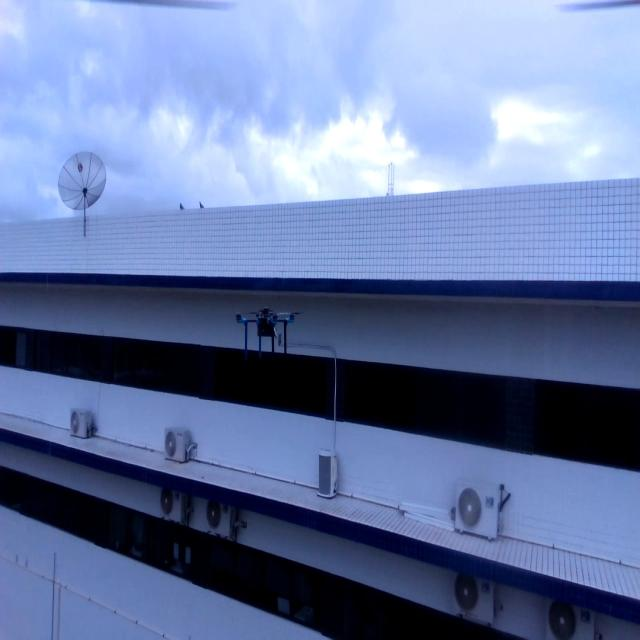-uav-: (225, 286, 300, 361)
